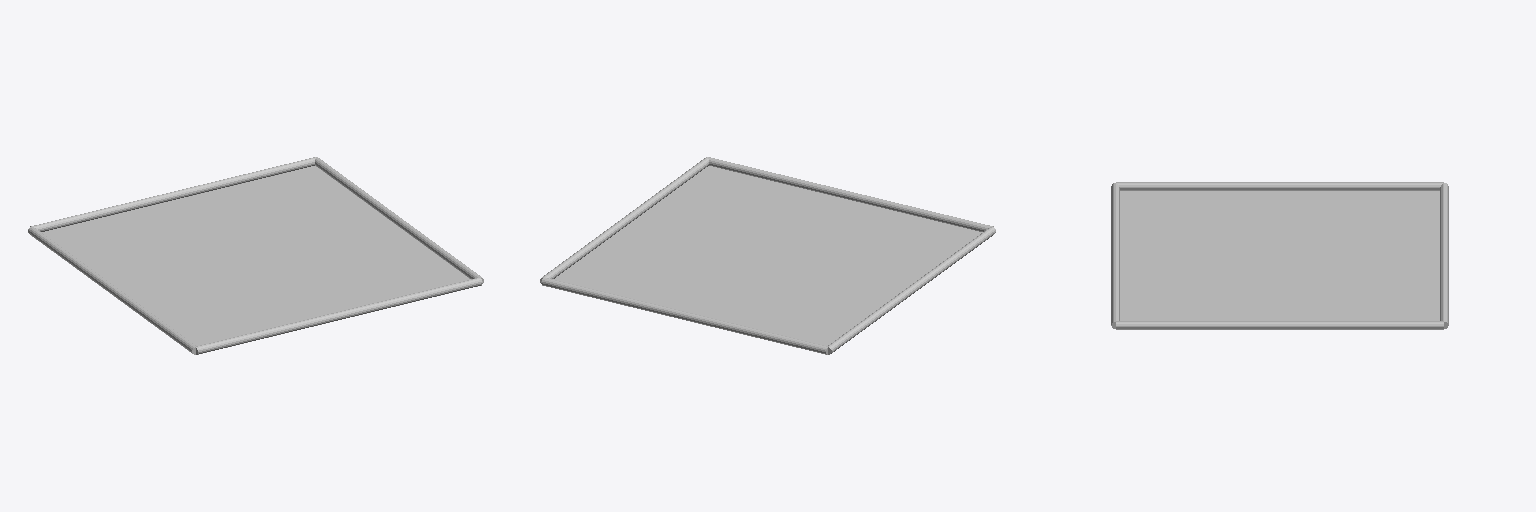
File: farmland.obj
3 views of the same model, side by side, from view 1: azimuth 30°, elevation 25°; view 2: azimuth 150°, elevation 25°; view 3: azimuth 270°, elevation 25° (orthographic).
Visible parts, largest first — view 1: farmland, Cylinder.008; view 2: farmland, Cylinder.008; view 3: farmland, Cylinder.008.
Part boxes in pixels (x1,y1,x2,y2): farmland: (41,166,470,345); Cylinder.008: (28,157,483,354); farmland: (553,166,982,345); Cylinder.008: (540,157,995,354); farmland: (1120,191,1439,320); Cylinder.008: (1111,182,1448,329).
Bounding box in the file's own units: 16.41 × 0.4104 × 16.41.